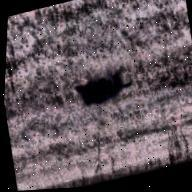boar: (67, 61, 139, 109)
